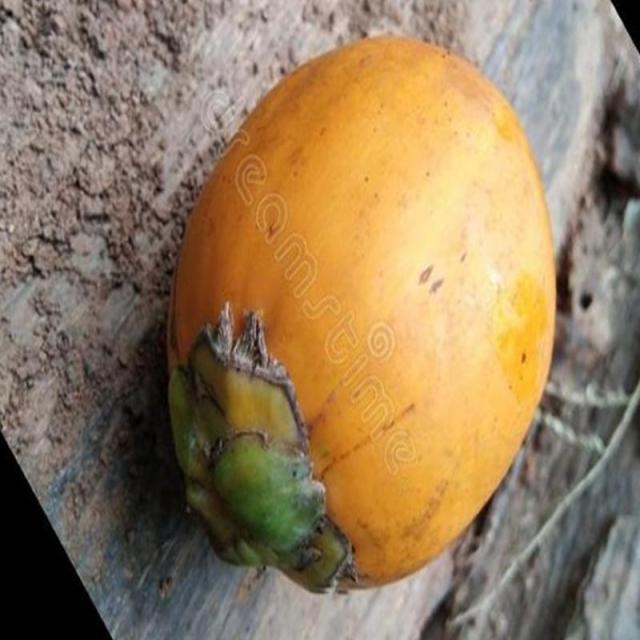good: (168, 36, 555, 592)
